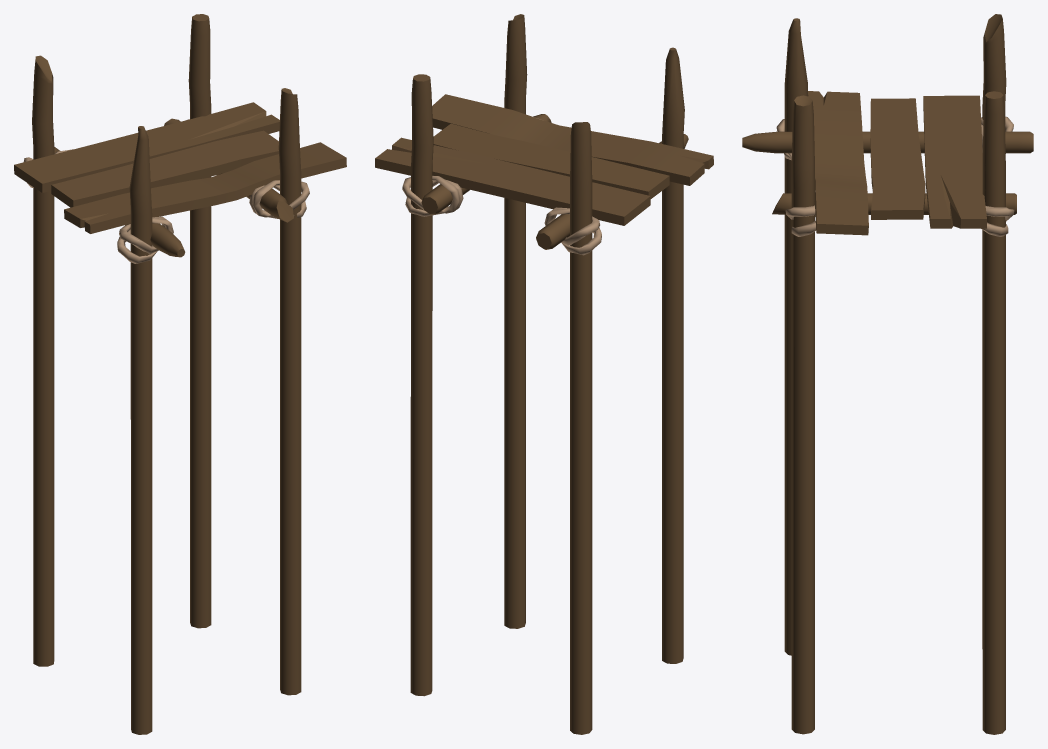
File: woodenBridge_single_mesh.fbx
The picture shows the model from 3 angles, left to right: view 1: azimuth 30°, elevation 25°; view 2: azimuth 150°, elevation 25°; view 3: azimuth 270°, elevation 25°; orthographic projection. The views are drawn at different scales.
Parts seen in each view (by area): view 1: single; view 2: single; view 3: single.
Boxes of the visible parts, bbox=[...] form: single: bbox=[14, 14, 346, 734]; single: bbox=[375, 14, 713, 734]; single: bbox=[742, 14, 1033, 734].
Bounding box in the file's own units: 0.5564 × 1.23 × 0.5112.
